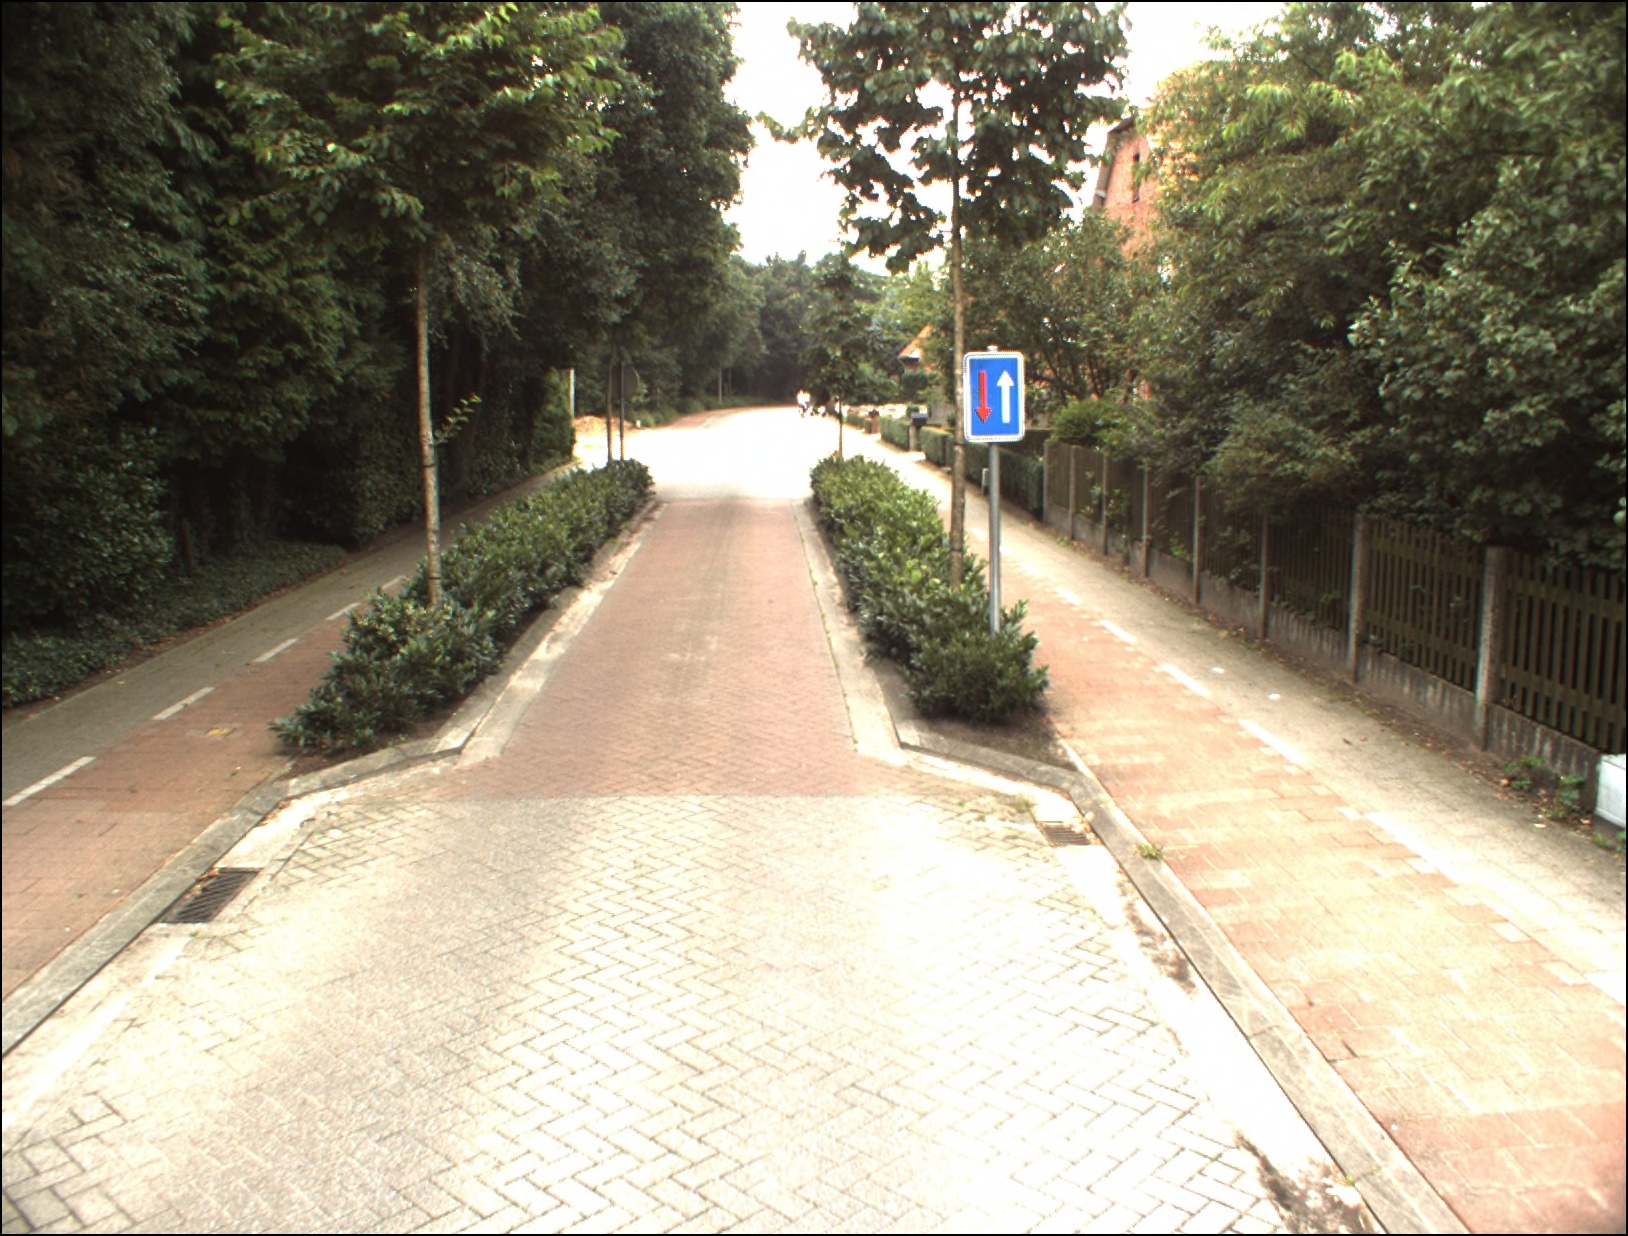roadnarrow1: (965, 348, 1030, 441)
